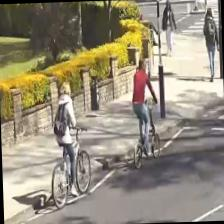person: (52, 80, 78, 194), (130, 55, 158, 153), (201, 7, 220, 80)
